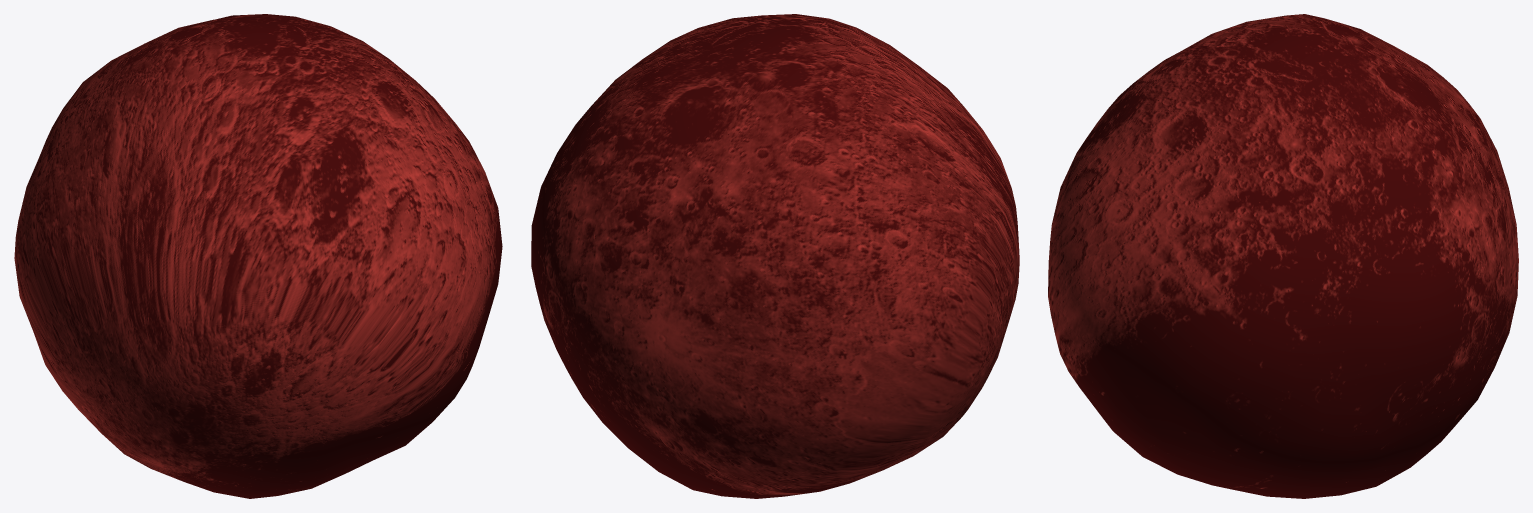
Rendered from moon.glb.
The picture shows the model from 3 angles, left to right: view 1: azimuth 30°, elevation 25°; view 2: azimuth 150°, elevation 25°; view 3: azimuth 270°, elevation 25°; orthographic projection.
Parts seen in each view (by area): view 1: BloodMoon; view 2: BloodMoon; view 3: BloodMoon.
Part boxes in pixels (x1,y1,x2,y2): BloodMoon: [14, 14, 502, 498]; BloodMoon: [531, 14, 1019, 498]; BloodMoon: [1048, 14, 1518, 498].
Bounding box in the file's own units: 2.42 × 2.42 × 2.37.
1 material, 1 textured.
